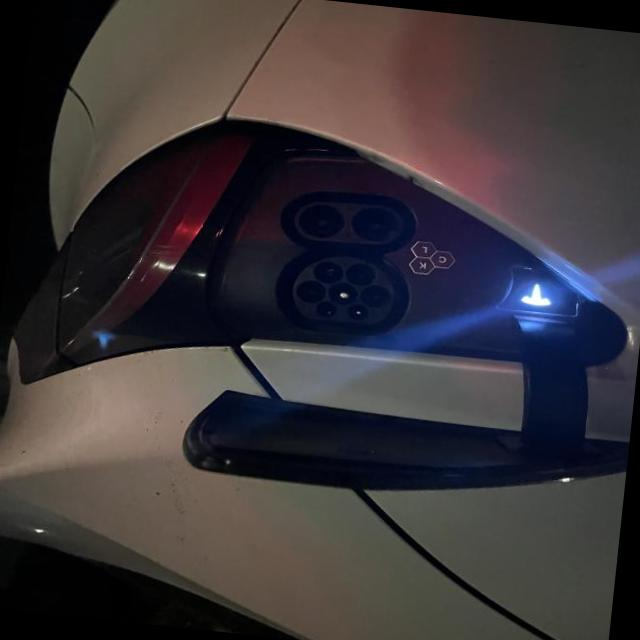inlet: (292, 255, 394, 322)
inlet-above-left: (346, 303, 367, 319)
inlet-above-right: (314, 300, 335, 317)
inlet-below-left: (344, 262, 374, 285)
inlet-below-right: (312, 260, 342, 282)
inlet-center: (326, 282, 357, 304)
inlet-center-left: (359, 284, 389, 306)
inlet-center-right: (295, 278, 325, 301)
